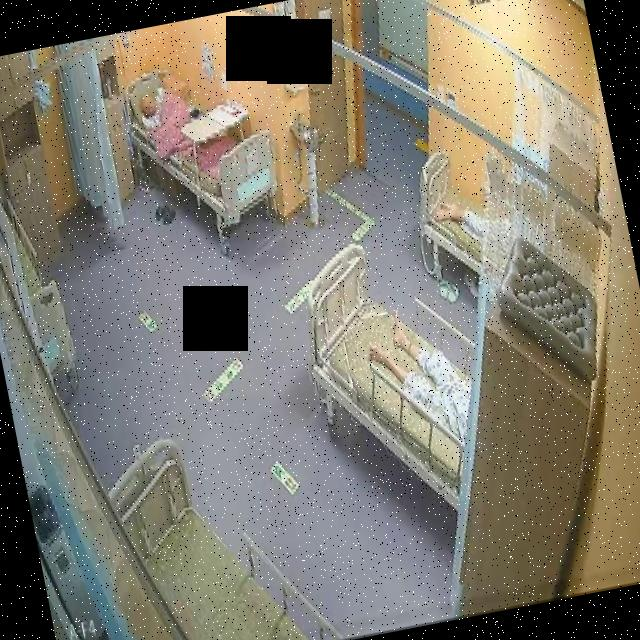bed: (289, 228, 496, 528), (99, 414, 344, 640), (114, 49, 288, 242), (408, 143, 496, 284)
lie: (361, 294, 482, 452)
patient: (362, 292, 482, 450), (134, 83, 177, 132)
